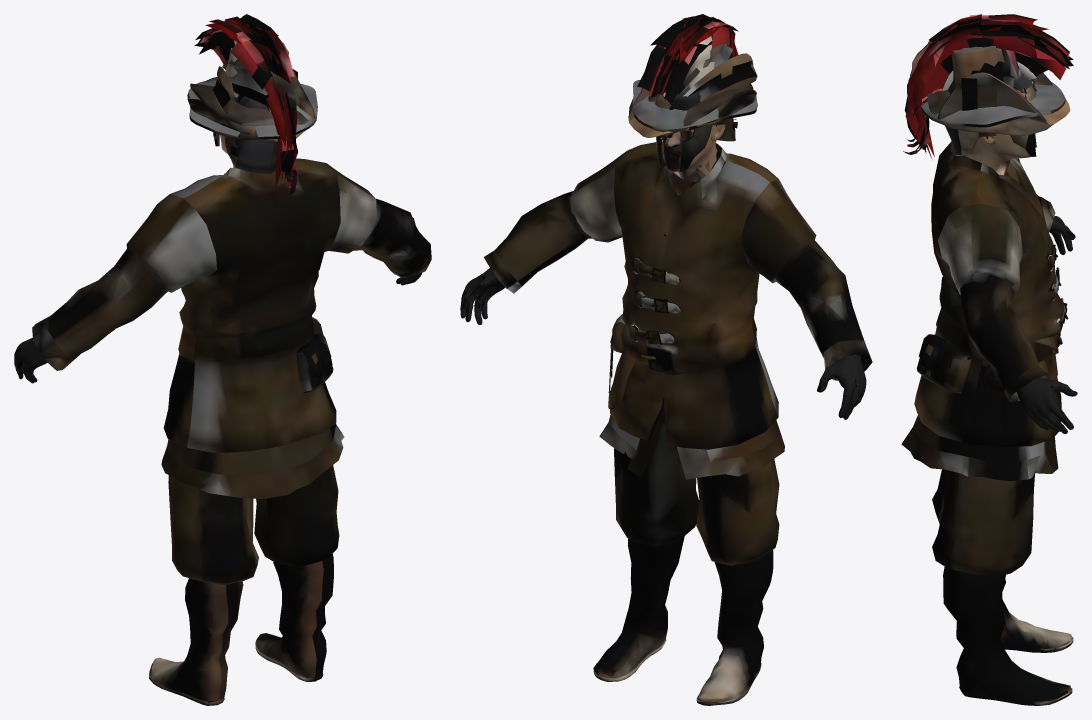
3 renders of one model, left to right at view 1: azimuth 30°, elevation 25°; view 2: azimuth 150°, elevation 25°; view 3: azimuth 270°, elevation 25°, orthographic. The views are drawn at different scales.
Parts seen in each view (by area): view 1: mesh_0; view 2: mesh_0; view 3: mesh_0.
Part boxes in pixels (x1,y1,x2,y2): mesh_0: (14, 14, 431, 705); mesh_0: (460, 14, 872, 705); mesh_0: (901, 14, 1077, 705).
Size of the model in its own units: 49.97 by 78.6 by 19.2.
Materials: 1 (1 with a texture image).
